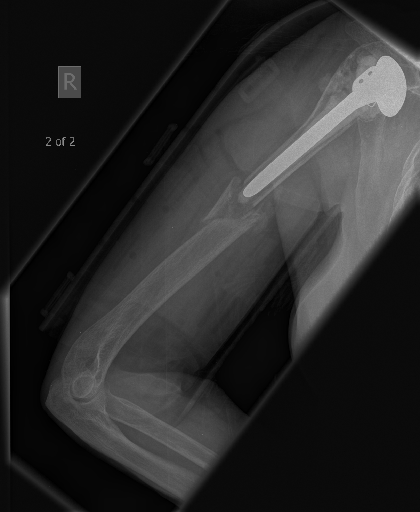implant: (242, 54, 408, 202)
